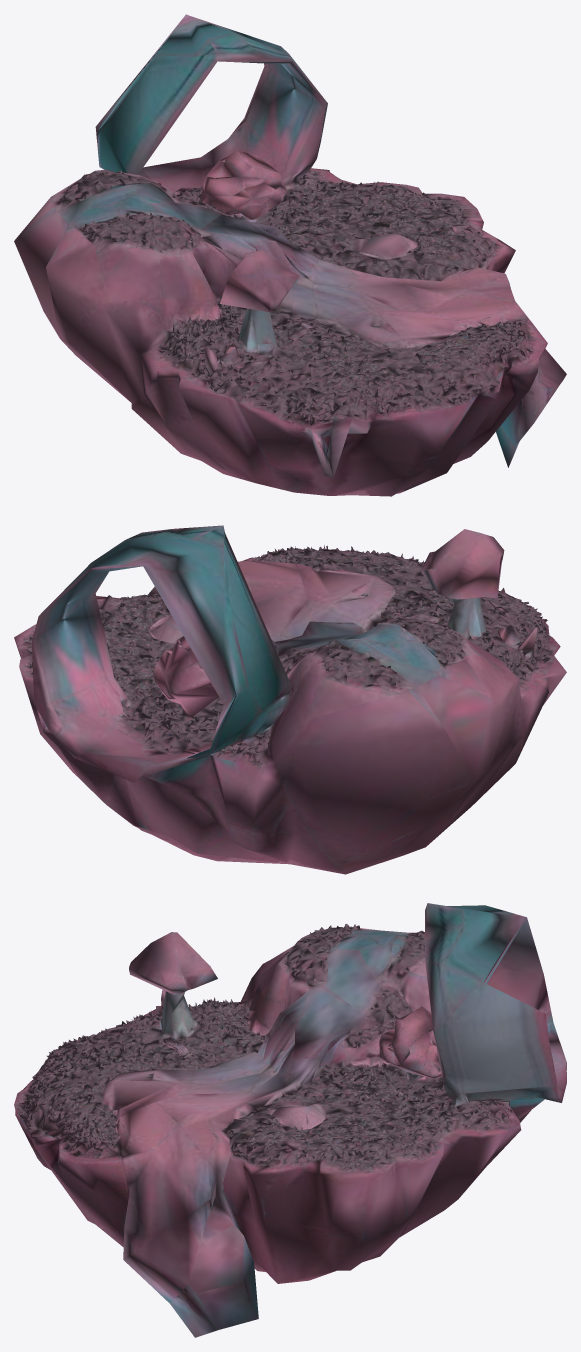
Rendered from paintPotIsland.e942c632.glb.
3 renders of one model, top to bottom at view 1: azimuth 30°, elevation 25°; view 2: azimuth 150°, elevation 25°; view 3: azimuth 270°, elevation 25°, orthographic. The views are drawn at different scales.
Size of the model in its own units: 1.65 by 1.34 by 1.89.
Materials: 1 (1 with a texture image).
